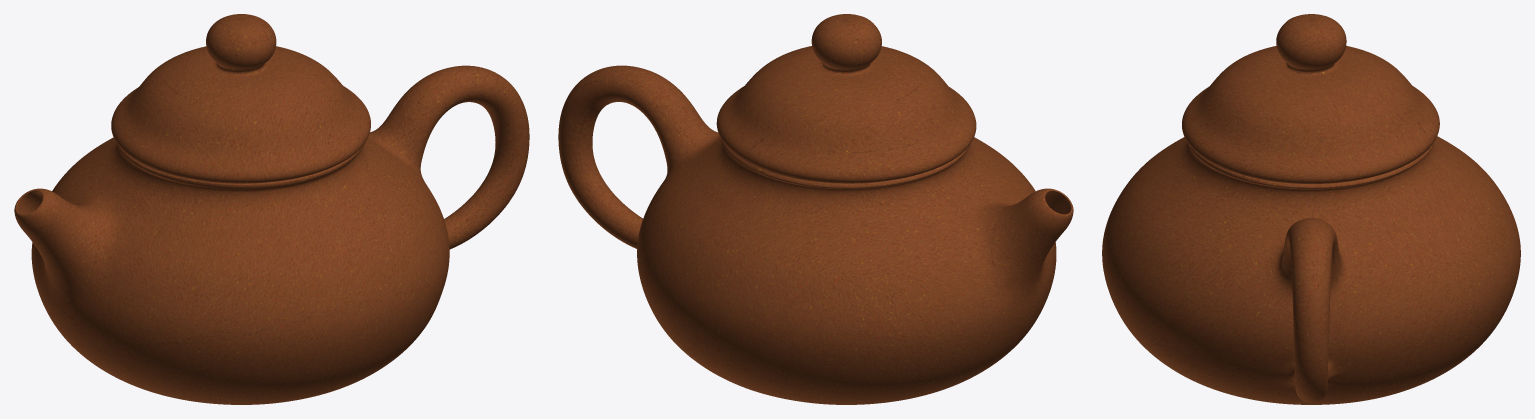
Rendered from qini-teapot-web.glb.
The picture shows the model from 3 angles, left to right: view 1: azimuth 30°, elevation 25°; view 2: azimuth 150°, elevation 25°; view 3: azimuth 270°, elevation 25°; orthographic projection.
Visible parts, largest first — view 1: 图层 02(5139A3E4-BFAA-4BD5-AFB5-9333DF9ECDC5); view 2: 图层 02(5139A3E4-BFAA-4BD5-AFB5-9333DF9ECDC5); view 3: 图层 02(5139A3E4-BFAA-4BD5-AFB5-9333DF9ECDC5).
Boxes of the visible parts, left/top/right/bottom form: 图层 02(5139A3E4-BFAA-4BD5-AFB5-9333DF9ECDC5): left=14, top=14, right=529, bottom=404; 图层 02(5139A3E4-BFAA-4BD5-AFB5-9333DF9ECDC5): left=558, top=14, right=1073, bottom=404; 图层 02(5139A3E4-BFAA-4BD5-AFB5-9333DF9ECDC5): left=1102, top=14, right=1520, bottom=404.
Bounding box in the file's own units: 0.0209 × 0.0129 × 0.0148.
1 material, 1 textured.
